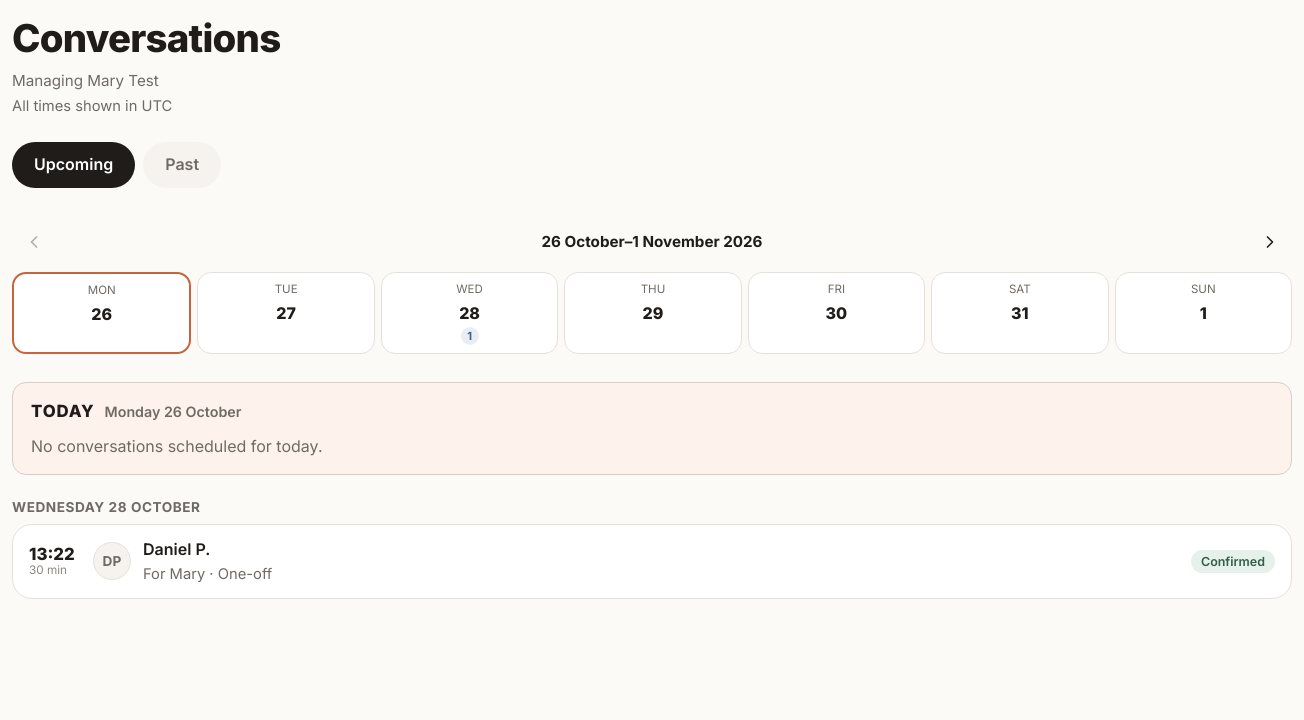
Conversations page › 17. clicking a date filters to it; an empty day says so with a way back
This screenshot has width=1304, height=720.
Note: Click a certainly-empty day (today has nothing in this fixture).
Click the button "Mon 26".
click(102, 313)  # box 12,272 -> 191,354
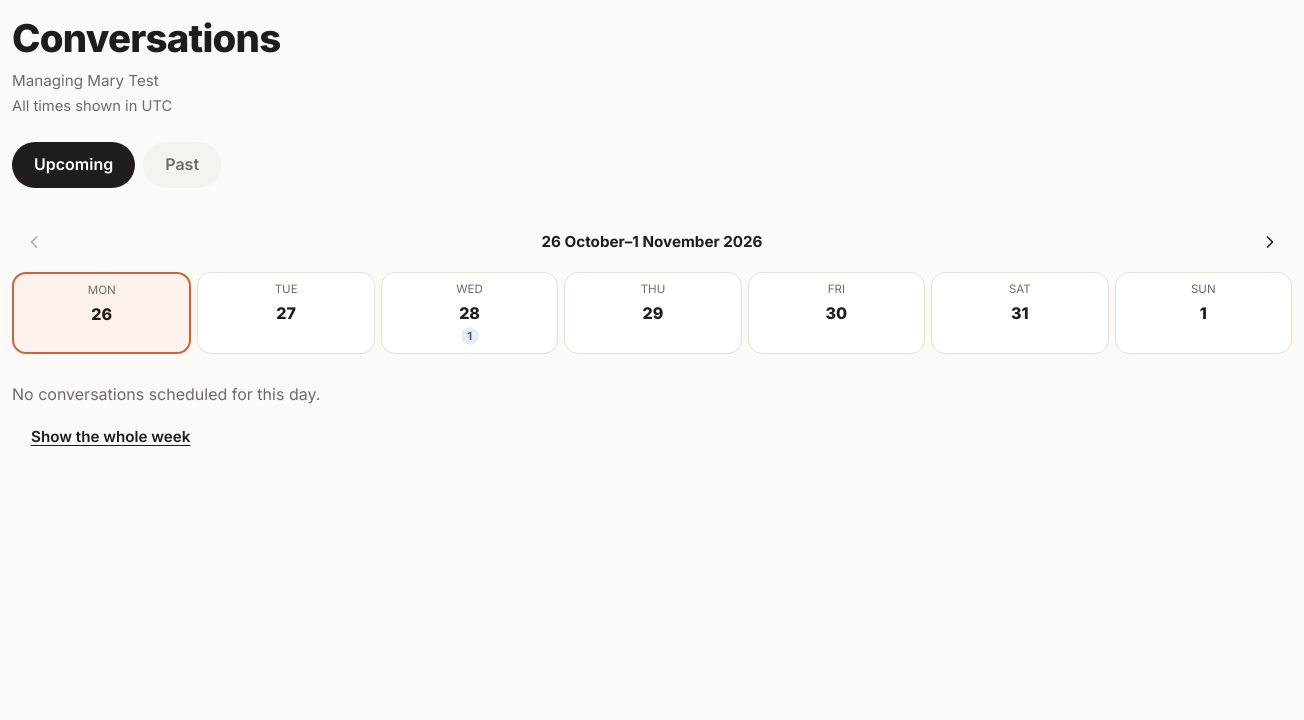
expect the text "No conversations scheduled for this day." is shown: met, box 12,384 -> 320,404
Click the button "Show the whole week".
click(111, 437)  # box 12,415 -> 210,459
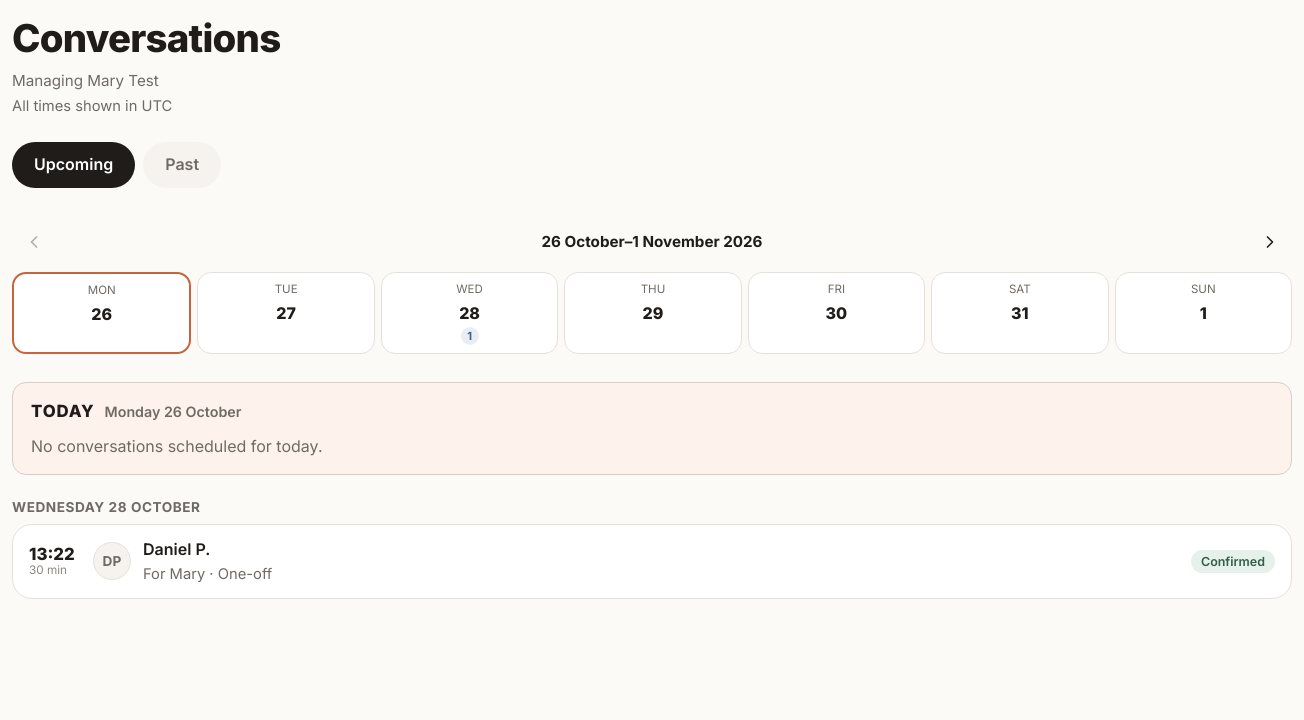
expect the text "No conversations scheduled for this day." is gone: met
